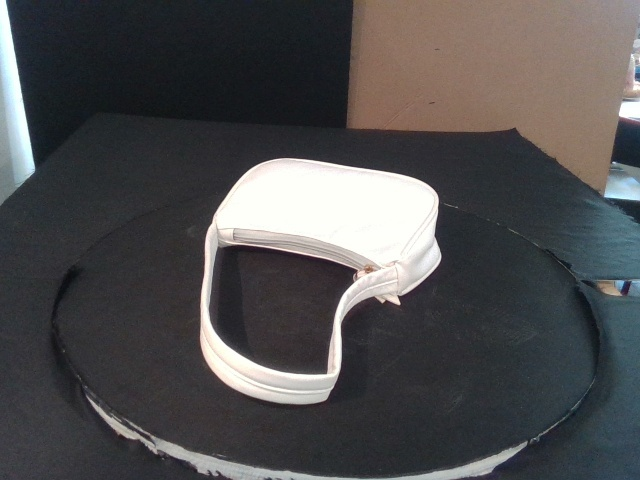bag: (198, 156, 443, 406)
